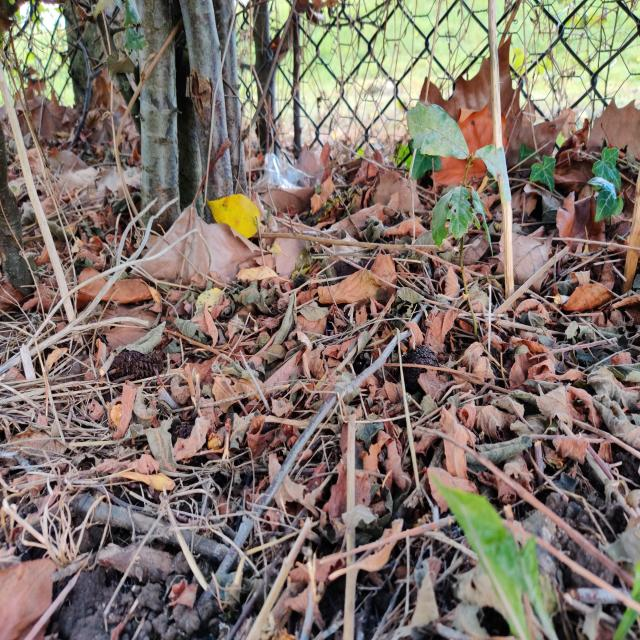litter: (255, 141, 333, 195)
